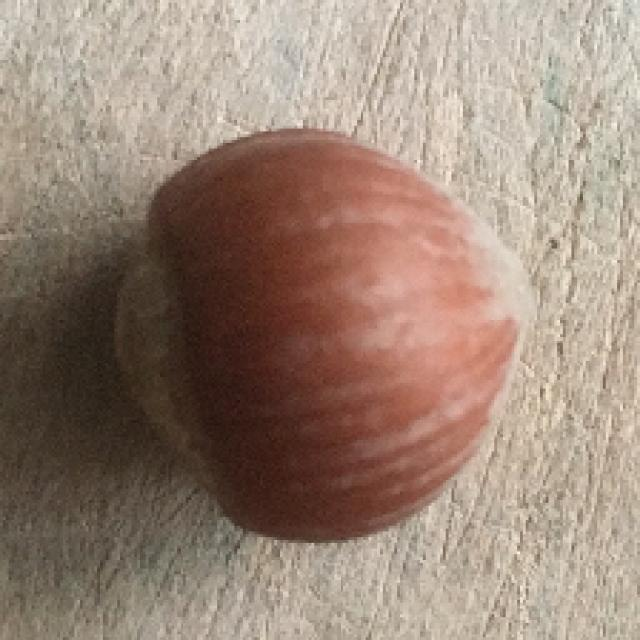QualityHazelnut: (108, 127, 543, 546)
